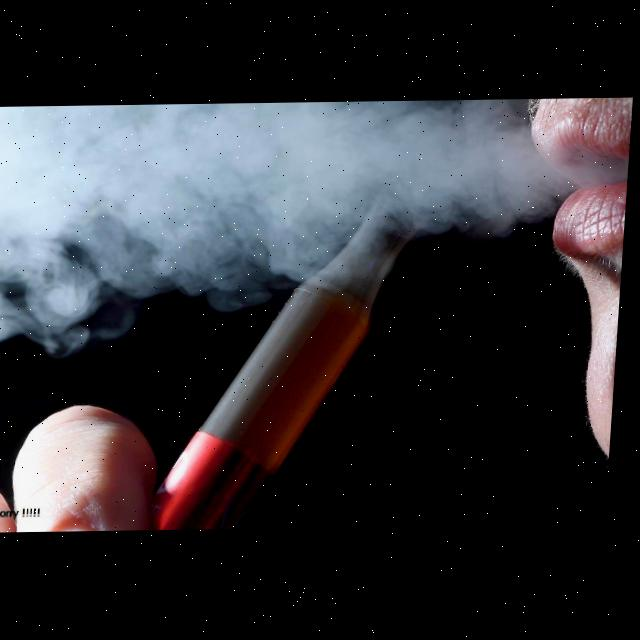vape: (157, 194, 423, 531)
